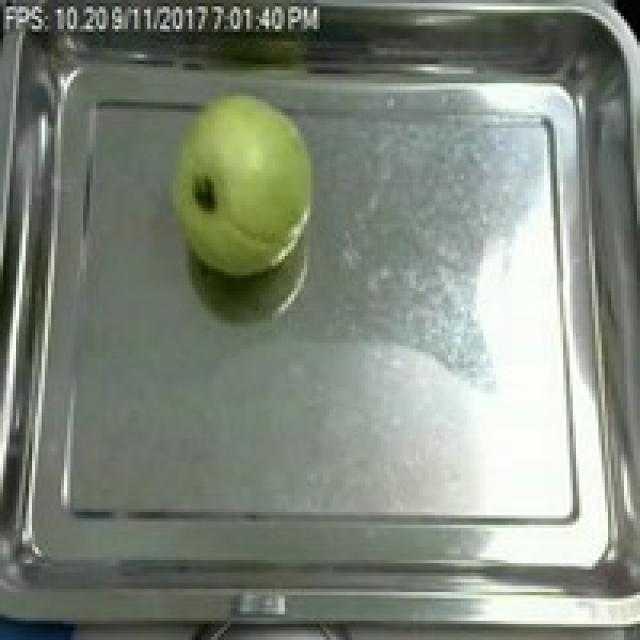Fruit: (154, 80, 326, 288)
